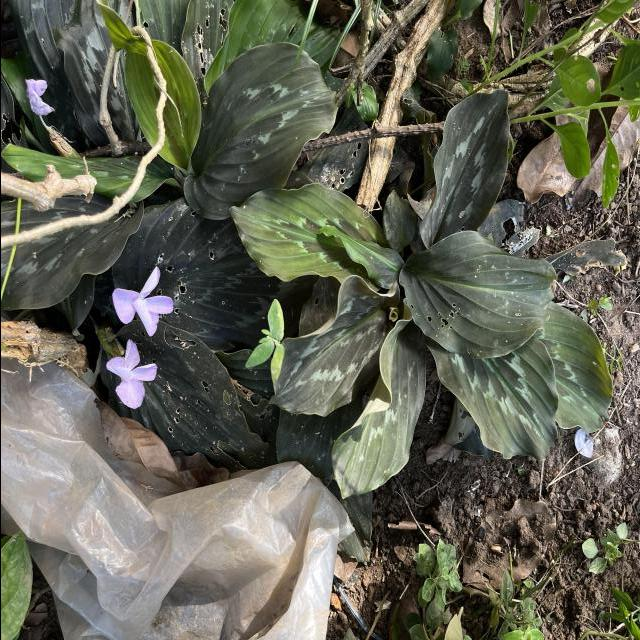Kaempferia galanga linn: (182, 40, 338, 224), (395, 228, 558, 361), (328, 296, 427, 501), (264, 273, 402, 419), (416, 334, 560, 464), (225, 181, 391, 293), (416, 87, 511, 250), (312, 222, 406, 290)
